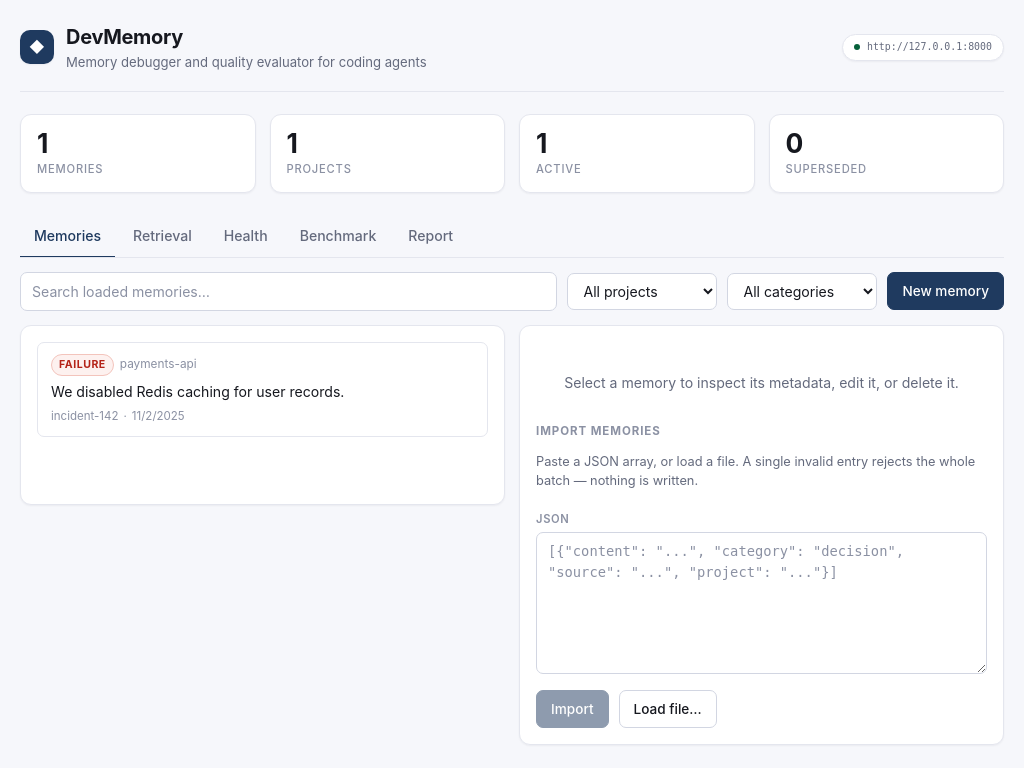
it: retrieval benchmark › describes the benchmark before running it
This screenshot has width=1024, height=768.
Expected: the text "We disabled Redis caching for user records." is shown, [51,383,344,400]
Click the tab "Benchmark" at x=338, y=236, box [286,214,390,258]
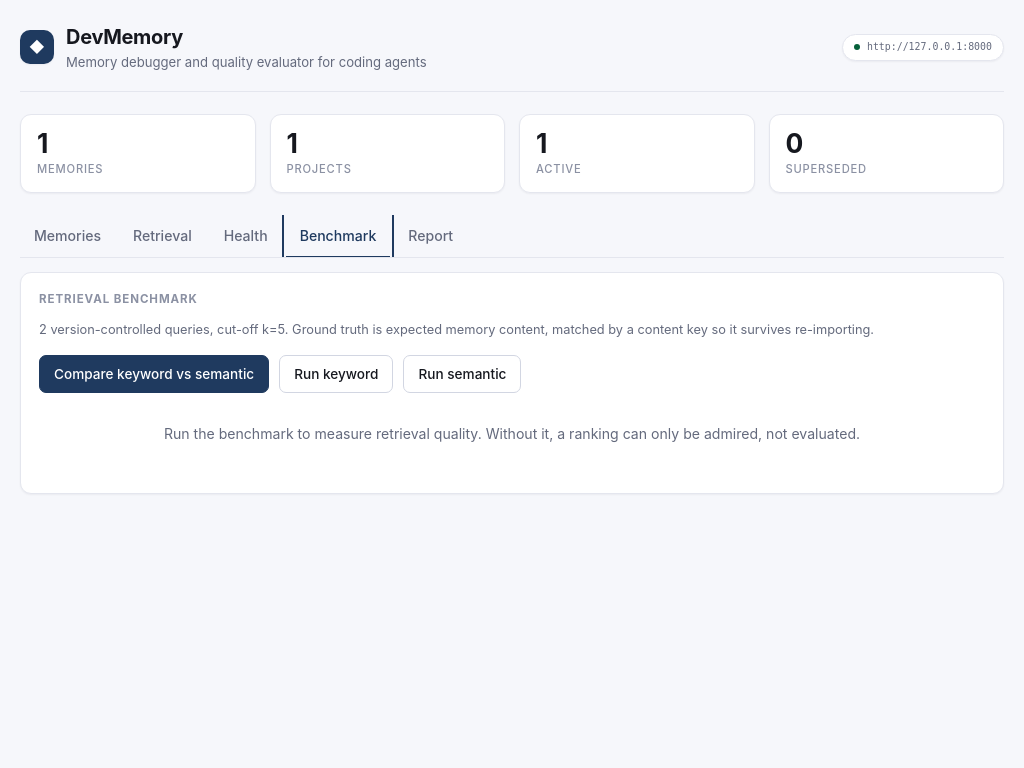
Now the text "2 version-controlled queries" is shown, box [39,320,985,339]
Now the text "survives re-importing" is shown, box [285,322,874,337]
